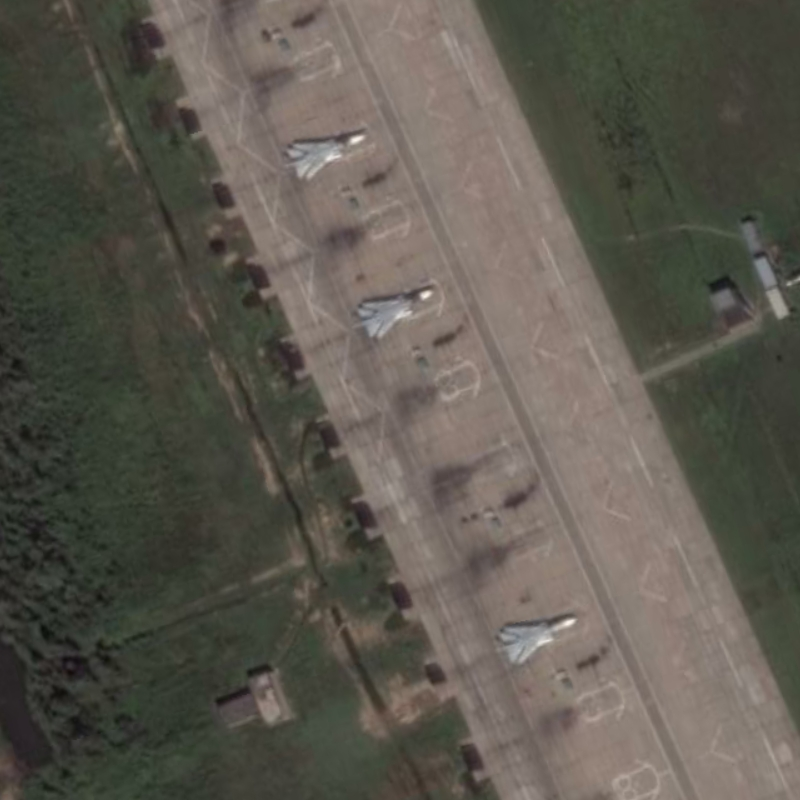A20: (355, 288, 435, 340), (498, 615, 579, 666), (284, 132, 367, 180)
